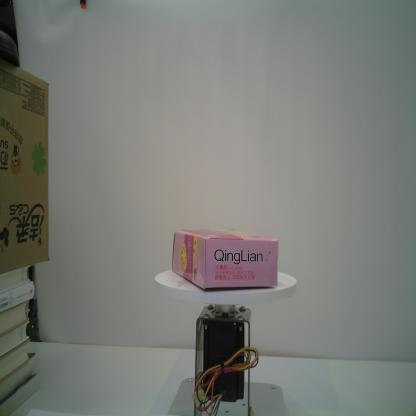Dessert: (171, 226, 280, 292)
